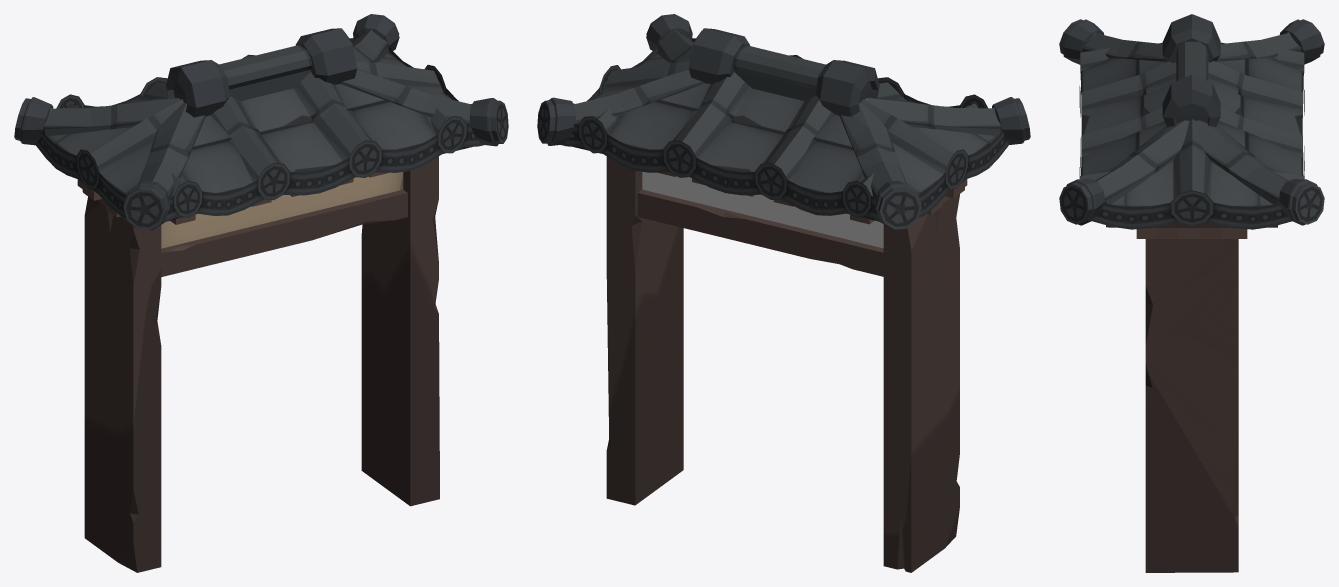
Rendered from SM_Bld_Gate_Dobei_02.fbx.
The picture shows the model from 3 angles, left to right: view 1: azimuth 30°, elevation 25°; view 2: azimuth 150°, elevation 25°; view 3: azimuth 270°, elevation 25°; orthographic projection. The views are drawn at different scales.
Visible parts, largest first — view 1: SM_Bld_Gate_Dobei_02; view 2: SM_Bld_Gate_Dobei_02; view 3: SM_Bld_Gate_Dobei_02.
Boxes of the visible parts, x1,y1,x2,y2 form: SM_Bld_Gate_Dobei_02: (14, 14, 508, 572); SM_Bld_Gate_Dobei_02: (537, 14, 1030, 572); SM_Bld_Gate_Dobei_02: (1059, 14, 1324, 572).
Bounding box in the file's own units: 345 × 404 × 216.
